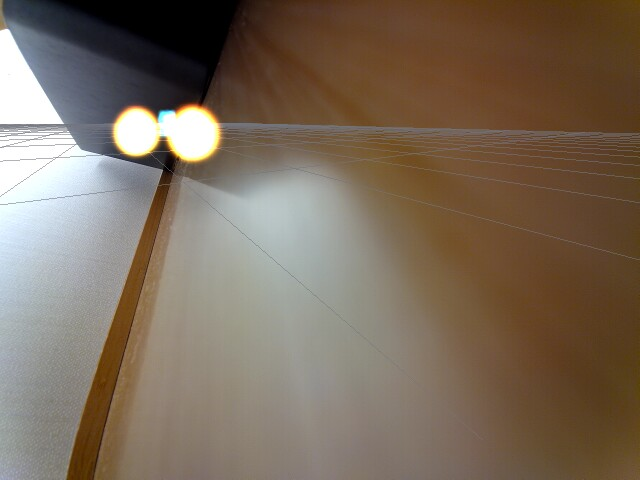firebig: (166, 99, 227, 167)
